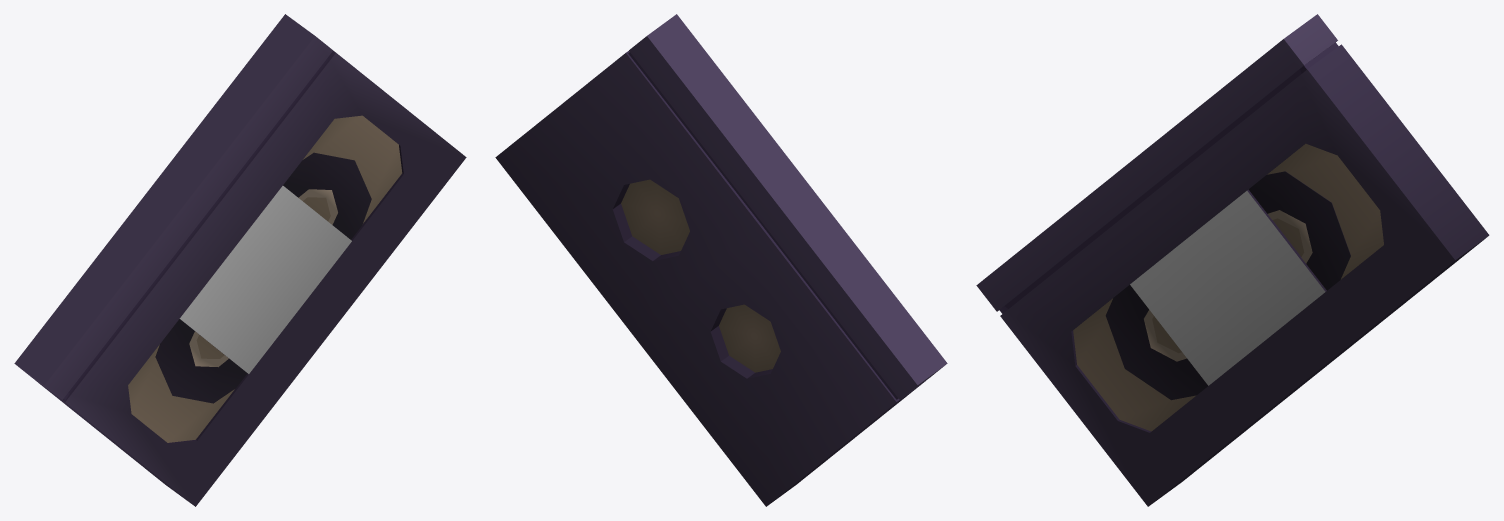
The model's file is SM_Cassete.fbx.
The picture shows the model from 3 angles, left to right: view 1: azimuth 30°, elevation 25°; view 2: azimuth 150°, elevation 25°; view 3: azimuth 330°, elevation 25°; orthographic projection. The views are drawn at different scales.
Visible parts, largest first — view 1: SM_Cassette; view 2: SM_Cassette; view 3: SM_Cassette.
Boxes of the visible parts, <box> form: SM_Cassette: <box>14,14,466,506</box>; SM_Cassette: <box>495,14,947,506</box>; SM_Cassette: <box>976,14,1489,506</box>.
Bounding box in the file's own units: 221 × 221 × 27.34.
